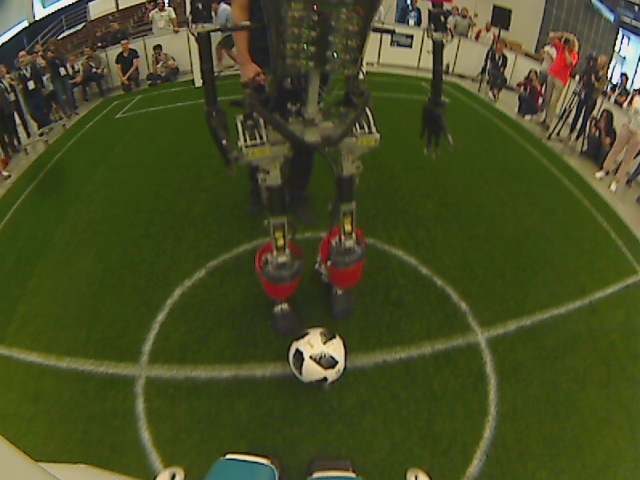ball: (287, 325, 349, 387)
